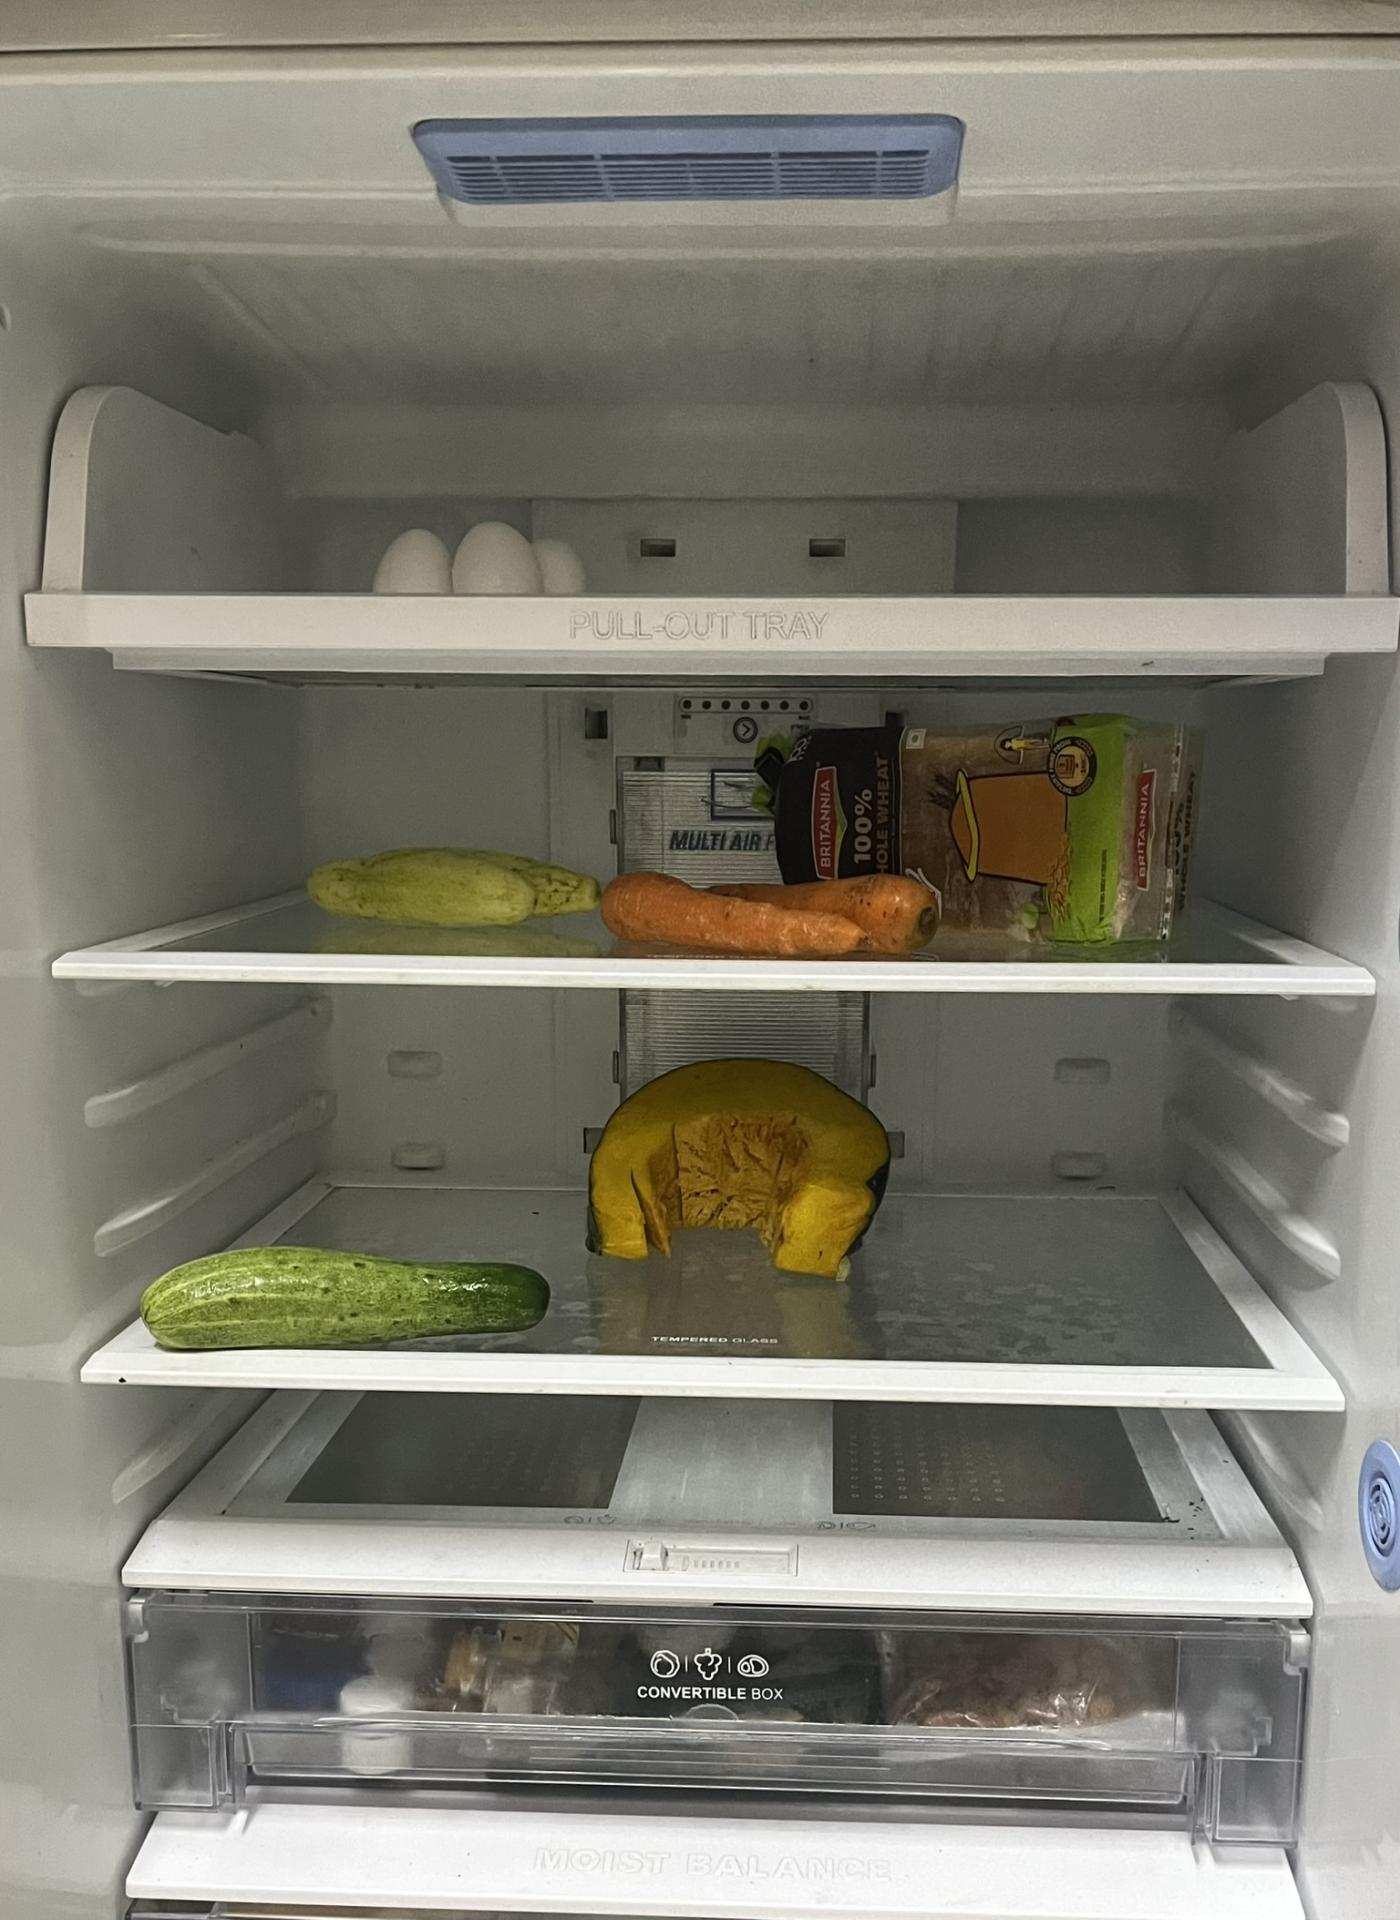bread: (771, 716, 1203, 942)
carrots: (607, 869, 936, 960)
cucumber: (130, 1239, 552, 1345), (301, 847, 607, 923)
egg: (370, 507, 584, 596)
pumpkin: (584, 1057, 899, 1285)
